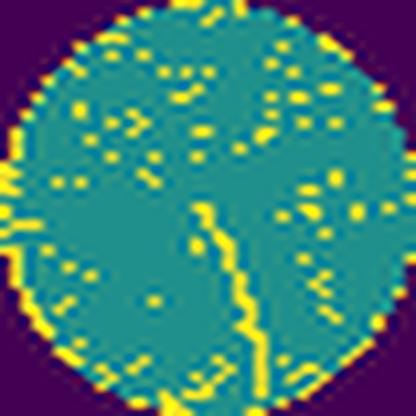Scratch: (187, 198, 275, 403)
